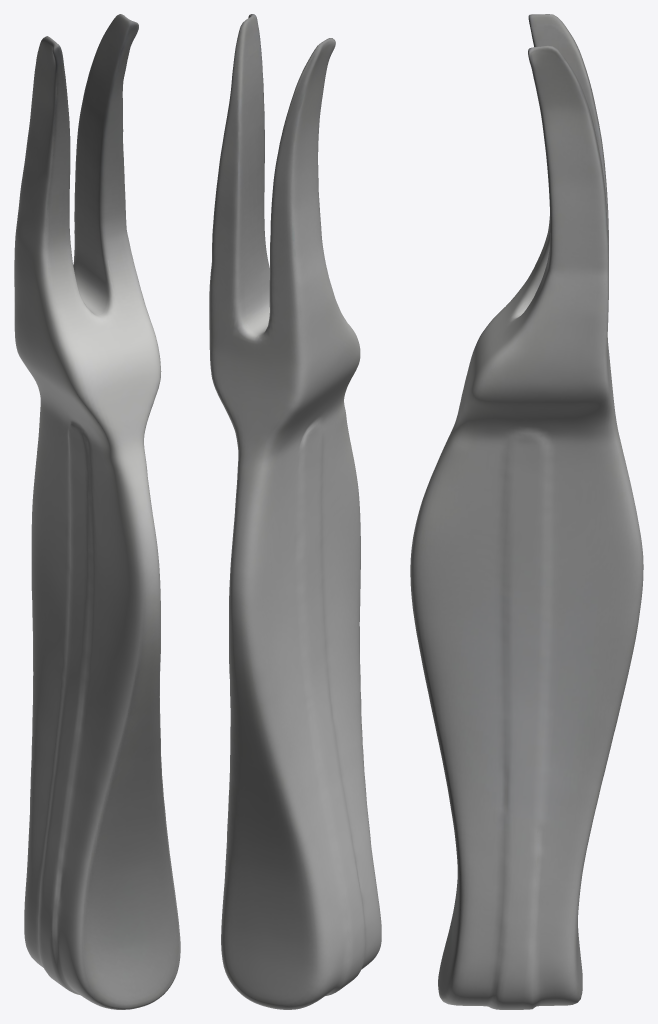
File: model_snail_fork.glb
3 renders of one model, left to right at view 1: azimuth 30°, elevation 25°; view 2: azimuth 150°, elevation 25°; view 3: azimuth 270°, elevation 25°, orthographic. The views are drawn at different scales.
Visible parts, largest first — view 1: tripo_node_381515f1-bc71-44a3-b57d-d25fcb4f2469; view 2: tripo_node_381515f1-bc71-44a3-b57d-d25fcb4f2469; view 3: tripo_node_381515f1-bc71-44a3-b57d-d25fcb4f2469.
Boxes of the visible parts, <box> form: tripo_node_381515f1-bc71-44a3-b57d-d25fcb4f2469: <box>14,14,180,1009</box>; tripo_node_381515f1-bc71-44a3-b57d-d25fcb4f2469: <box>209,14,381,1009</box>; tripo_node_381515f1-bc71-44a3-b57d-d25fcb4f2469: <box>410,14,643,1009</box>.
Bounding box in the file's own units: 0.1245 × 0.9997 × 0.2173.
1 material, 1 textured.
